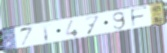4: (65, 18, 80, 38)
7: (18, 26, 36, 47), (84, 14, 101, 36)
9: (112, 11, 127, 30)
F: (129, 5, 149, 28)
T: (38, 23, 54, 42)
